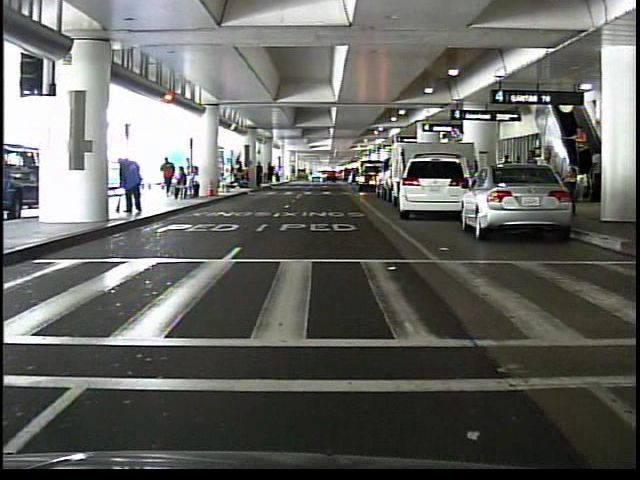person: (118, 151, 148, 217), (567, 122, 592, 171)
